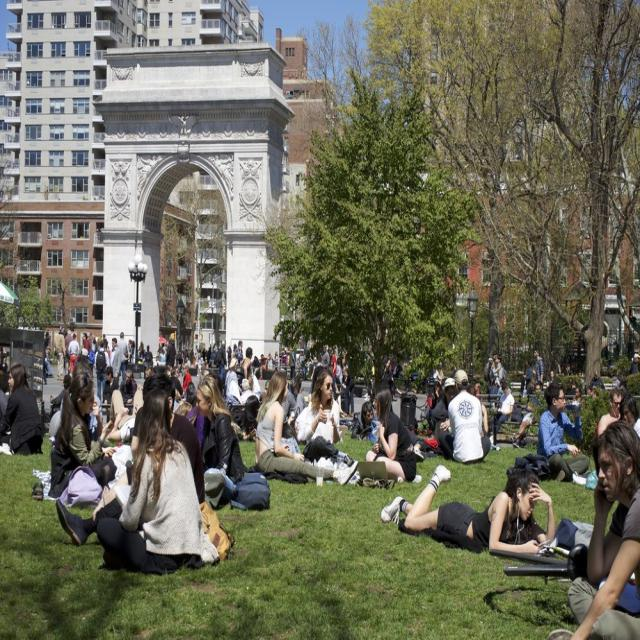body: (0, 320, 638, 487), (55, 371, 207, 549), (93, 383, 205, 578), (378, 460, 560, 563), (561, 421, 640, 640), (252, 368, 360, 488), (46, 371, 118, 501), (194, 373, 246, 503), (535, 382, 592, 483), (299, 368, 356, 468), (436, 368, 491, 466), (364, 384, 417, 484), (0, 361, 44, 457), (509, 382, 546, 451), (488, 382, 516, 445), (94, 341, 110, 403), (532, 347, 544, 384), (165, 336, 177, 368)
